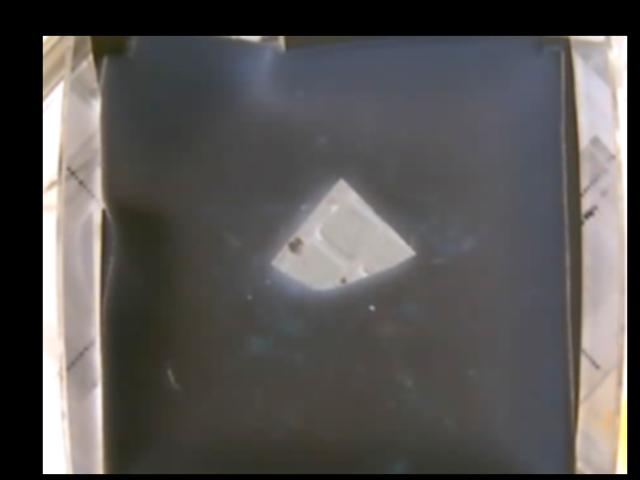China: (271, 180, 416, 287)
